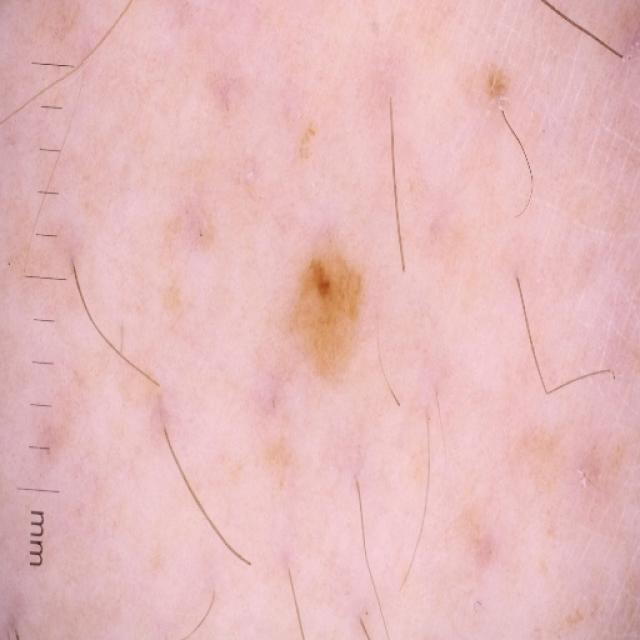Melanoma: (291, 255, 362, 376)
